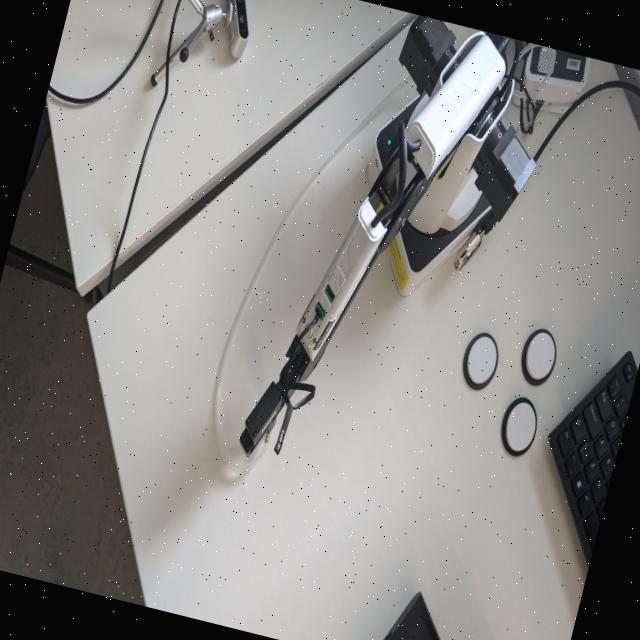Robot-end-effector-HF8z: (231, 370, 294, 472)
